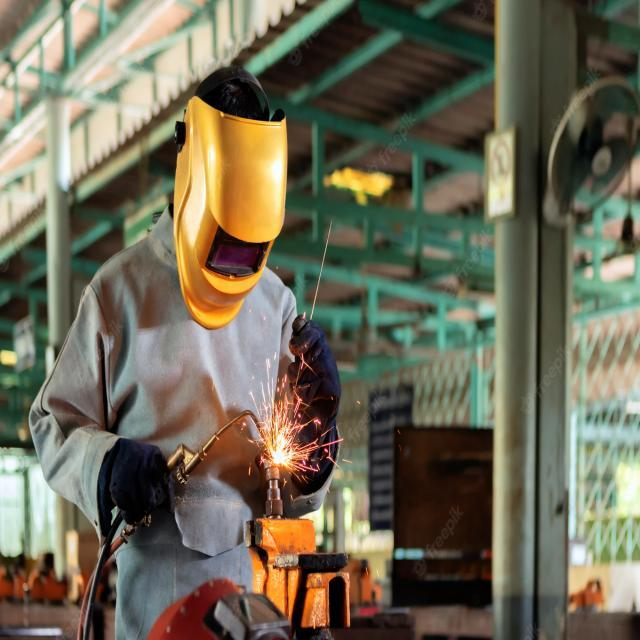with_helmet: (174, 96, 287, 328)
